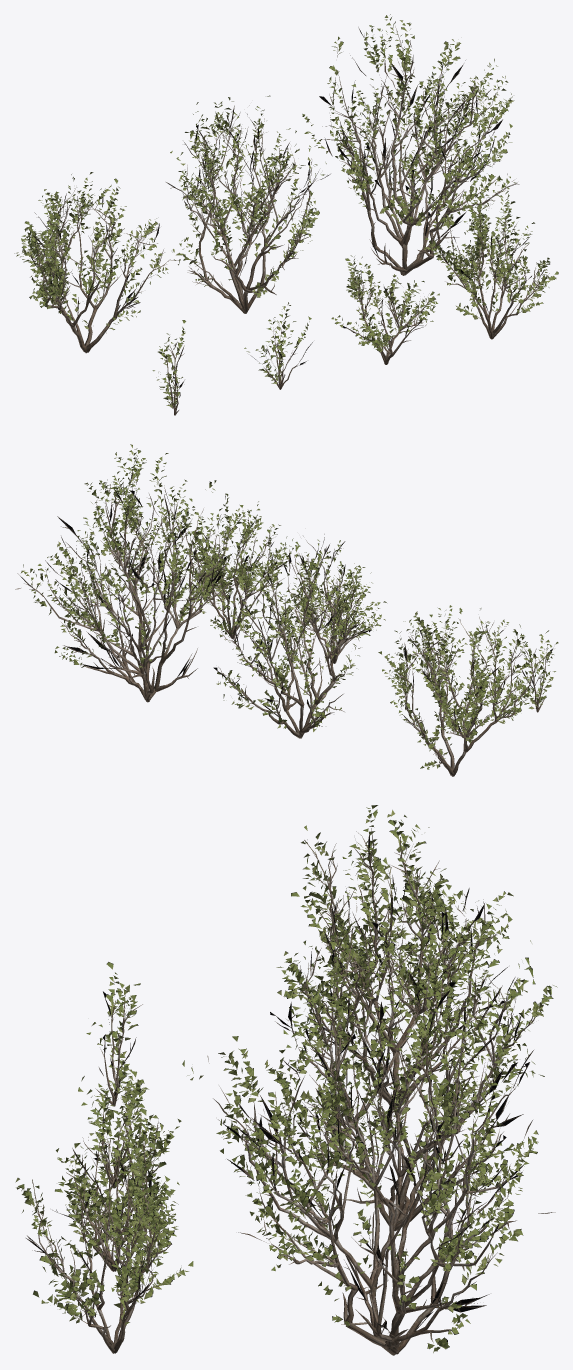
File: forest_hero_tree_h.glb
3 renders of one model, top to bottom at view 1: azimuth 30°, elevation 25°; view 2: azimuth 150°, elevation 25°; view 3: azimuth 270°, elevation 25°, orthographic. The views are drawn at different scales.
Visible parts, largest first — view 1: searsia_lucida_a_LOD0, searsia_lucida_b_LOD0, searsia_lucida_c_LOD0, searsia_lucida_d_LOD0, searsia_lucida_e_LOD0, searsia_lucida_f_LOD0, searsia_lucida_g_LOD0; view 2: searsia_lucida_a_LOD0, searsia_lucida_b_LOD0, searsia_lucida_c_LOD0, searsia_lucida_d_LOD0, searsia_lucida_e_LOD0, searsia_lucida_g_LOD0, searsia_lucida_f_LOD0; view 3: searsia_lucida_a_LOD0, searsia_lucida_b_LOD0, searsia_lucida_c_LOD0, searsia_lucida_d_LOD0, searsia_lucida_e_LOD0, searsia_lucida_g_LOD0, searsia_lucida_f_LOD0.
Part boxes in pixels (x1,y1,x2,y2): searsia_lucida_a_LOD0: [302, 14, 519, 275]; searsia_lucida_b_LOD0: [166, 95, 330, 313]; searsia_lucida_c_LOD0: [14, 172, 190, 353]; searsia_lucida_d_LOD0: [425, 176, 558, 339]; searsia_lucida_e_LOD0: [331, 255, 439, 364]; searsia_lucida_f_LOD0: [244, 302, 312, 389]; searsia_lucida_g_LOD0: [152, 320, 185, 415]; searsia_lucida_a_LOD0: [15, 444, 269, 702]; searsia_lucida_b_LOD0: [210, 534, 374, 738]; searsia_lucida_c_LOD0: [378, 605, 558, 776]; searsia_lucida_d_LOD0: [171, 493, 293, 638]; searsia_lucida_e_LOD0: [282, 565, 386, 663]; searsia_lucida_g_LOD0: [513, 630, 555, 712]; searsia_lucida_f_LOD0: [403, 611, 467, 686]; searsia_lucida_a_LOD0: [182, 950, 555, 1355]; searsia_lucida_b_LOD0: [270, 875, 557, 1231]; searsia_lucida_c_LOD0: [277, 805, 513, 1109]; searsia_lucida_d_LOD0: [15, 1102, 193, 1353]; searsia_lucida_e_LOD0: [52, 1065, 181, 1271]; searsia_lucida_g_LOD0: [86, 962, 142, 1106]; searsia_lucida_f_LOD0: [78, 1075, 160, 1188].
Size of the model in its own units: 4.76 by 2.31 by 2.81.
3 materials, 3 textured.
